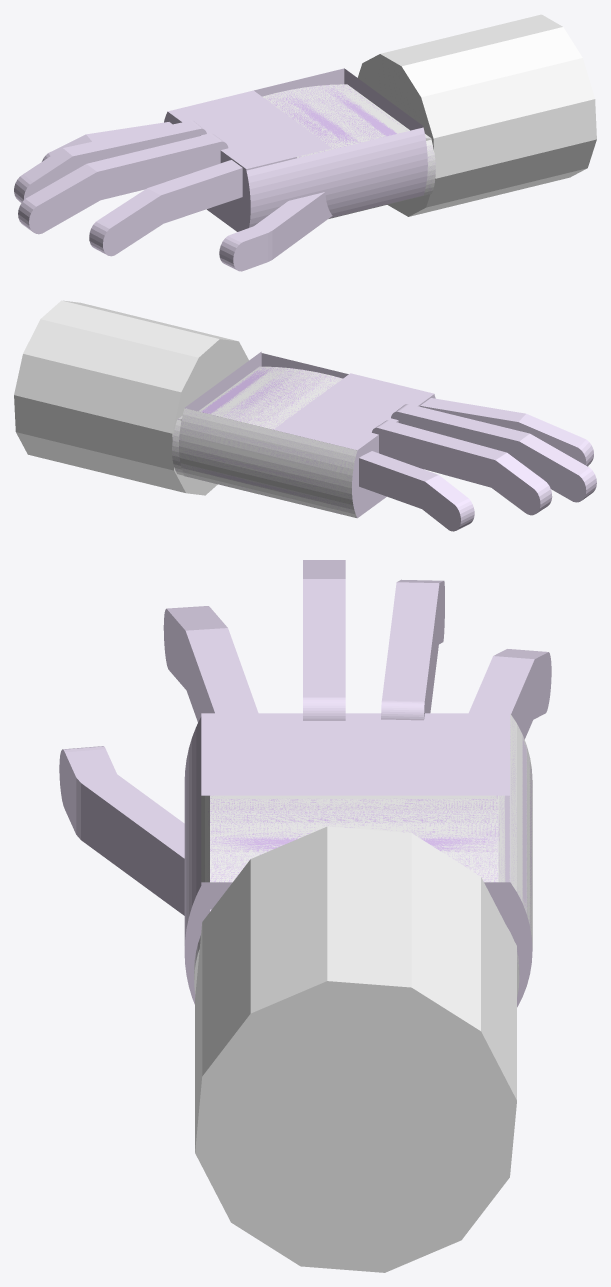
Rendered from hand.dae.
3 views of the same model, one above another, from view 1: azimuth 30°, elevation 25°; view 2: azimuth 150°, elevation 25°; view 3: azimuth 270°, elevation 25° (orthographic). The views are drawn at different scales.
Visible parts, largest first — view 1: Wrist, Outer_Hand_001, Outer_Hand, Wrist_001, Wrist_005, Inner_Hand_001, Middle_Finger, Index_Finger, Finger_Tip_001, Finger_Tip_002, Ring_Finger, Thumb_Joint (+6 smaller); view 2: Wrist, Outer_Hand_002, Wrist_001, Outer_Hand, Wrist_002, Inner_Hand_001, Ring_Finger, Middle_Finger, Finger_Tip_001, Pinky, Finger_tip, Finger_Tip (+3 smaller); view 3: Wrist, Wrist_001, Outer_Hand, Inner_Hand_001, Thumb_Joint, Ring_Finger, Middle_Finger, Index_Finger, Outer_Hand_002, Pinky, Outer_Hand_001, Finger_Tip_002 (+5 smaller).
Boxes of the visible parts, x1,y1,x2,y2 form: Wrist: (357, 54, 596, 216); Outer_Hand_001: (246, 127, 427, 227); Outer_Hand: (164, 68, 423, 231); Wrist_001: (380, 14, 582, 97); Wrist_005: (433, 99, 596, 178); Inner_Hand_001: (262, 84, 430, 158); Middle_Finger: (87, 133, 228, 200); Index_Finger: (147, 160, 242, 224); Finger_Tip_001: (18, 164, 103, 234); Finger_Tip_002: (89, 188, 163, 256); Ring_Finger: (63, 120, 206, 171); Thumb_Joint: (254, 197, 315, 259); Wrist: (14, 339, 248, 495); Outer_Hand_002: (179, 408, 357, 517); Wrist_001: (23, 300, 237, 392); Outer_Hand: (184, 351, 435, 517); Wrist_002: (14, 395, 173, 470); Inner_Hand_001: (177, 366, 342, 429); Ring_Finger: (372, 420, 506, 488); Middle_Finger: (391, 404, 529, 460); Finger_Tip_001: (515, 434, 596, 502); Pinky: (359, 451, 438, 509); Finger_tip: (488, 453, 552, 515); Finger_Tip: (422, 475, 474, 531); Wrist: (195, 859, 516, 1272); Wrist_001: (250, 826, 480, 1030); Outer_Hand: (184, 713, 532, 1007); Inner_Hand_001: (210, 795, 498, 911); Thumb_Joint: (81, 774, 184, 901); Ring_Finger: (381, 582, 439, 720); Middle_Finger: (303, 579, 345, 720); Index_Finger: (185, 628, 258, 722); Outer_Hand_002: (510, 714, 532, 948); Pinky: (469, 656, 534, 739); Outer_Hand_001: (184, 717, 201, 945); Finger_Tip_002: (163, 606, 227, 689).
Bounding box in the file's own units: 19.46 × 7.83 × 5.13.
